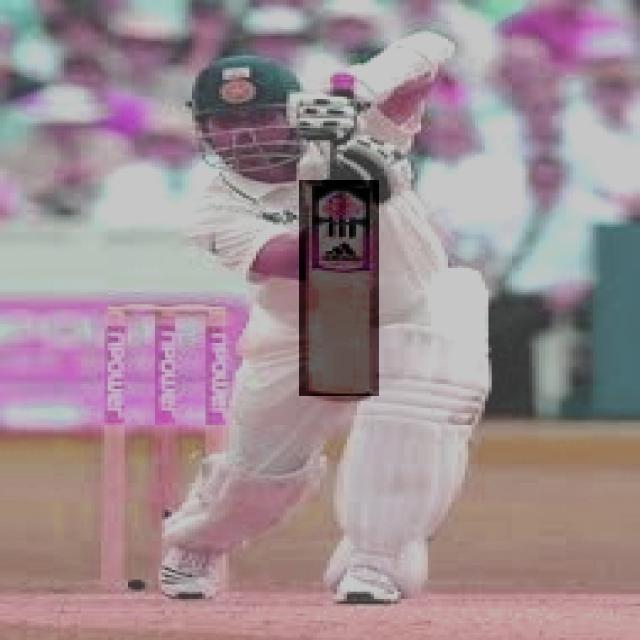bat: (303, 175, 379, 396)
toe: (309, 385, 366, 405)
